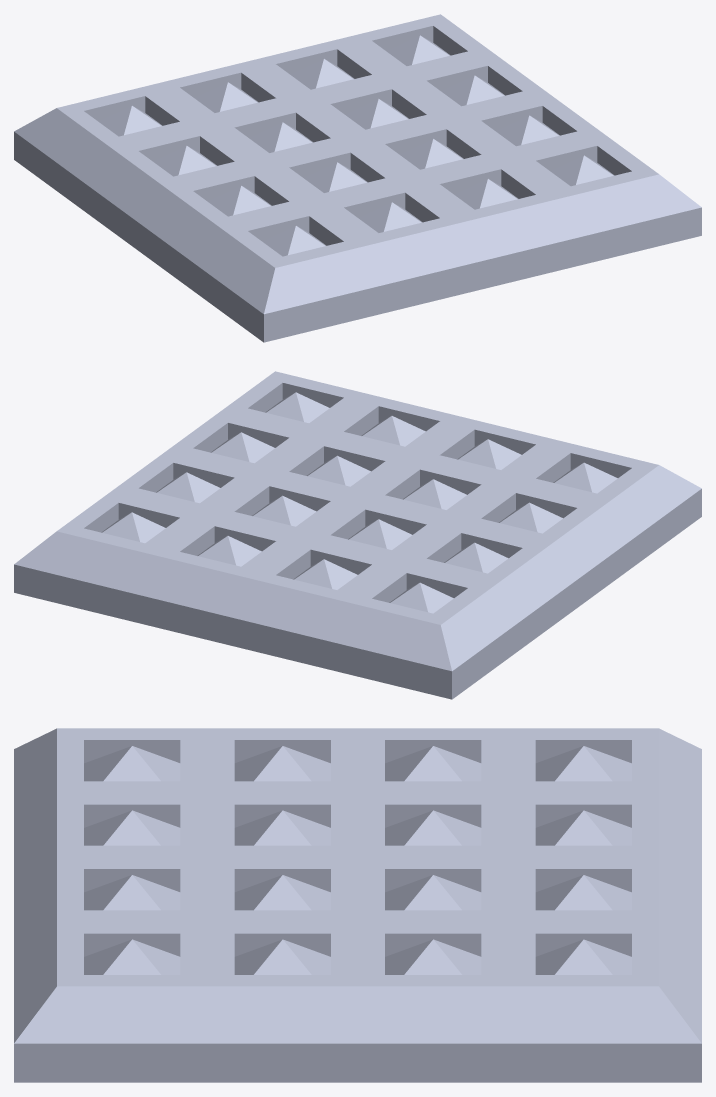
The model's file is spikesHidden.obj.
3 renders of one model, top to bottom at view 1: azimuth 30°, elevation 25°; view 2: azimuth 150°, elevation 25°; view 3: azimuth 270°, elevation 25°, orthographic. The views are drawn at different scales.
Visible parts, largest first — view 1: spikesHidden; view 2: spikesHidden; view 3: spikesHidden.
Part boxes in pixels (x1=…): spikesHidden: x1=14, y1=14, x2=701, y2=342; spikesHidden: x1=14, y1=371, x2=701, y2=699; spikesHidden: x1=14, y1=728, x2=701, y2=1082.
Bounding box in the file's own units: 0.81 × 0.1191 × 0.8.
